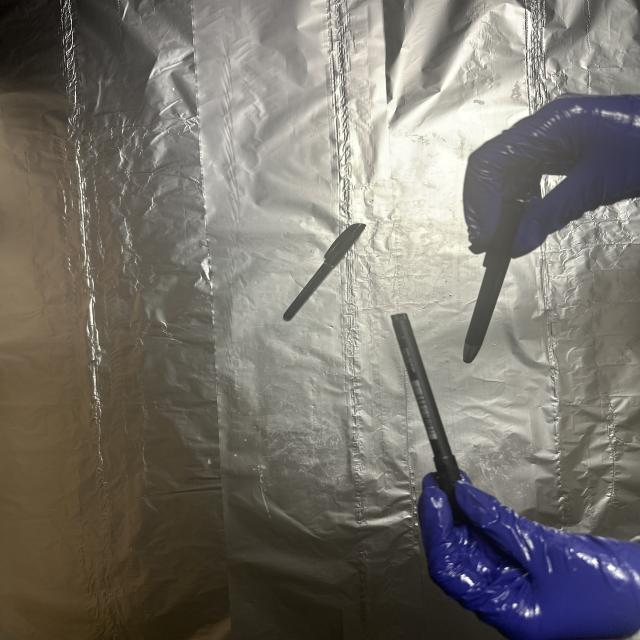gloves_contaminated: (418, 473, 640, 640), (463, 95, 640, 257)
